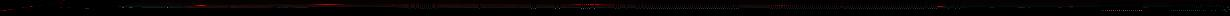Blue cone: (8, 9, 14, 10), (22, 7, 27, 8), (29, 6, 34, 7)
Yellow cone: (1068, 6, 1074, 8)
